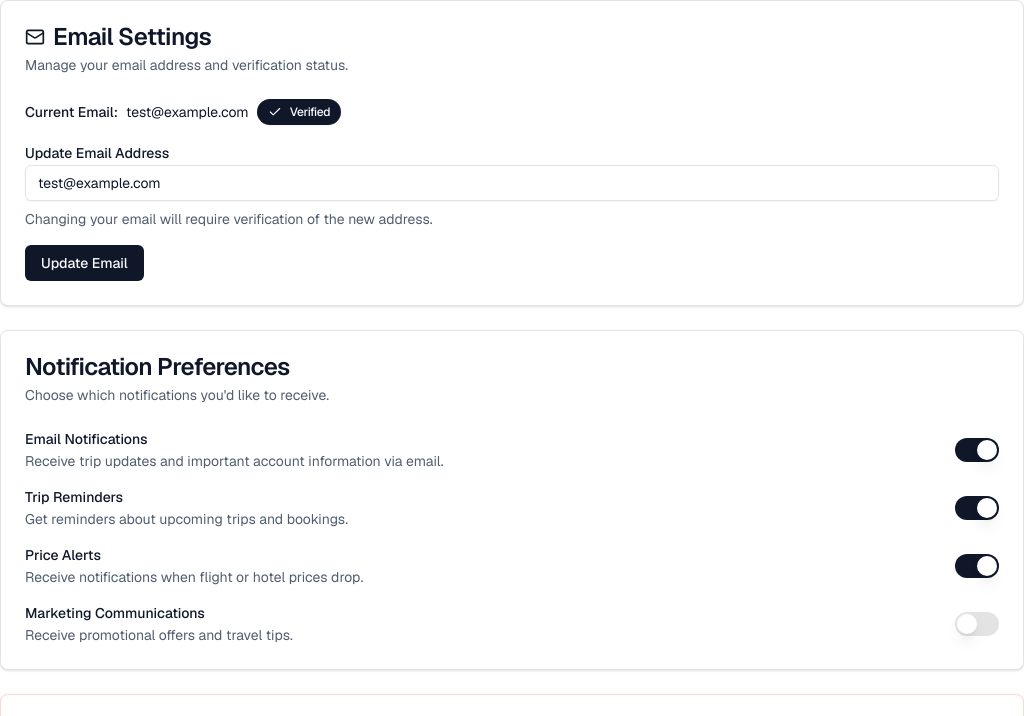
Test: AccountSettingsSection › validates email format in update form
The image size is (1024, 716).
Step 1. Replace the text in the field labelled "Update Email Address" with "invalid-email" → (512, 183), box [25, 165, 999, 201]
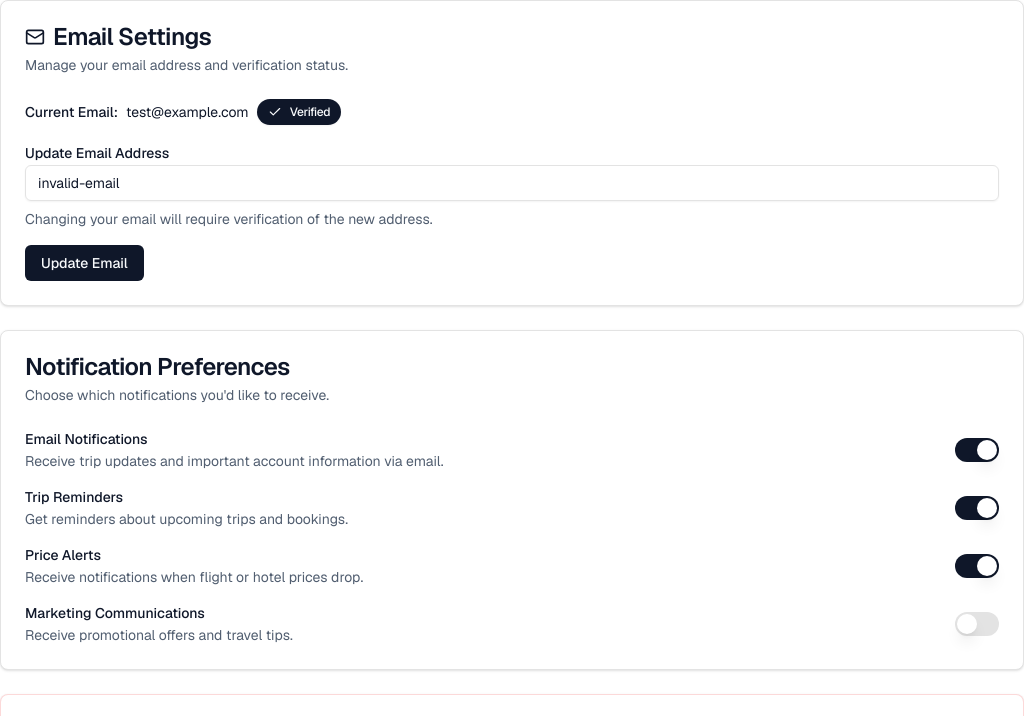
Step 2. Click the button "Update Email" → (84, 263), box [25, 245, 144, 281]
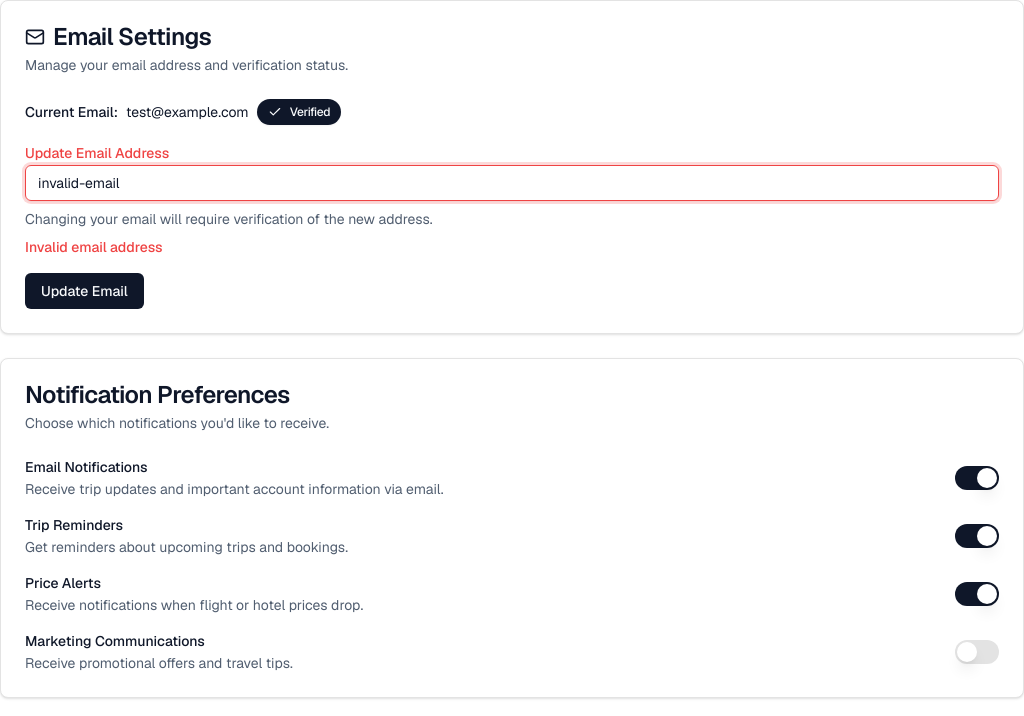
Result: the text "Invalid email address" is shown at [25, 238, 163, 256]
